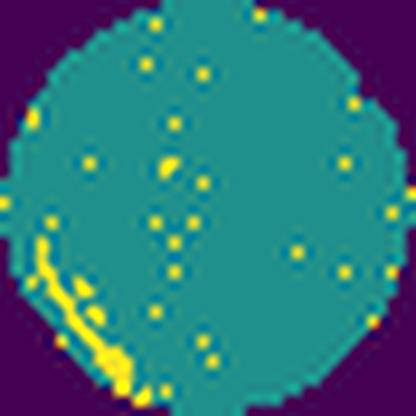Scratch: (33, 233, 136, 395)
